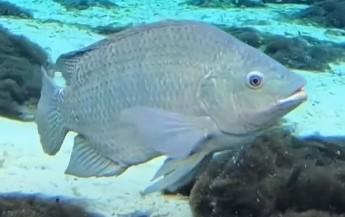Tilapia: (38, 20, 307, 194)
